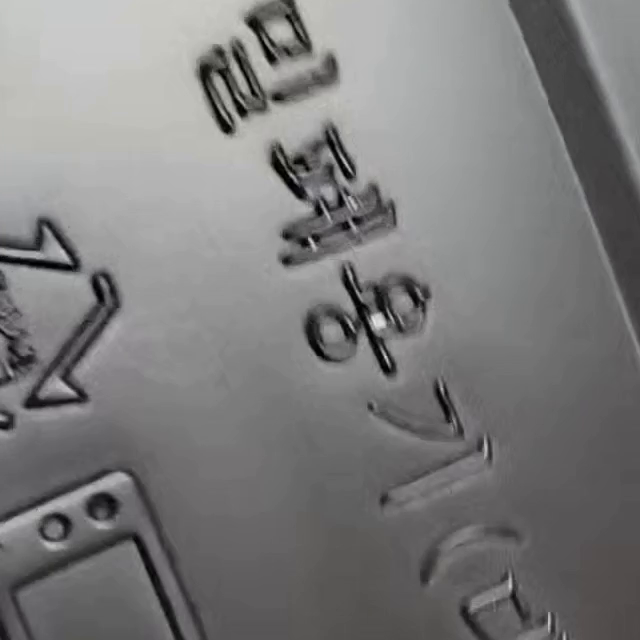Plastic: (2, 218, 117, 433)
